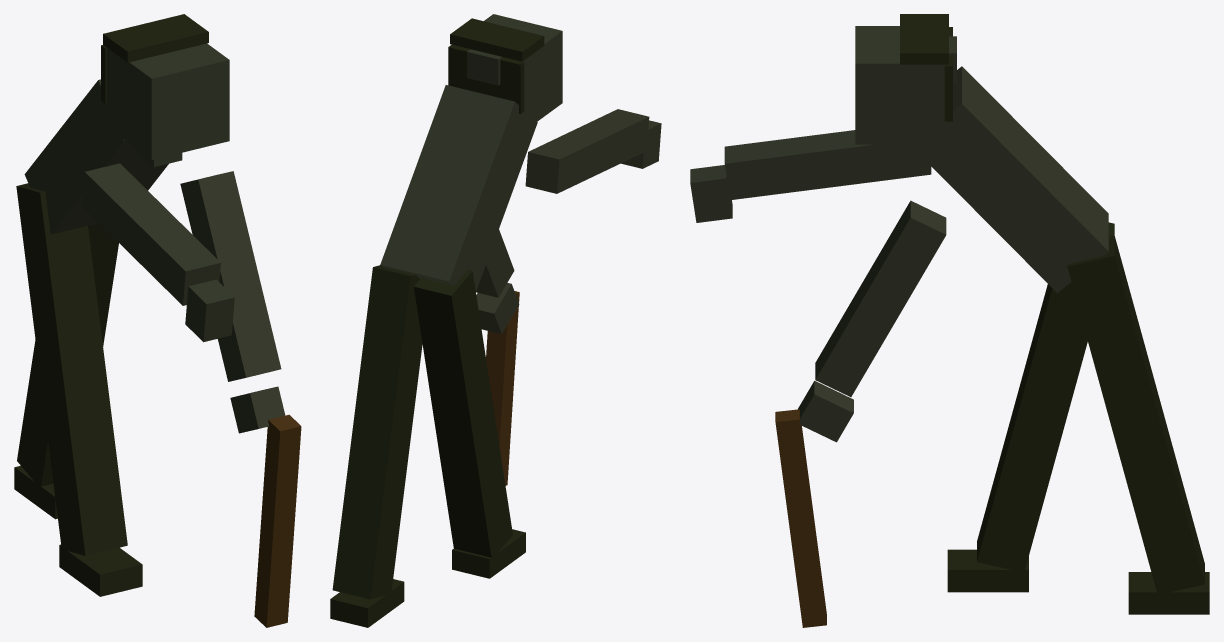
File: SM_ZombiFino_v14_Anciano_LOD1.fbx
3 renders of one model, left to right at view 1: azimuth 30°, elevation 25°; view 2: azimuth 150°, elevation 25°; view 3: azimuth 270°, elevation 25°, orthographic. The views are drawn at different scales.
Parts seen in each view (by area): view 1: SM_zombi_fino_v14_LOD1; view 2: SM_zombi_fino_v14_LOD1; view 3: SM_zombi_fino_v14_LOD1.
Boxes of the visible parts, x1,y1,x2,y2 form: SM_zombi_fino_v14_LOD1: [14, 14, 301, 627]; SM_zombi_fino_v14_LOD1: [330, 14, 661, 627]; SM_zombi_fino_v14_LOD1: [690, 14, 1209, 627].
Size of the model in its own units: 0.4 by 1.52 by 1.28.
